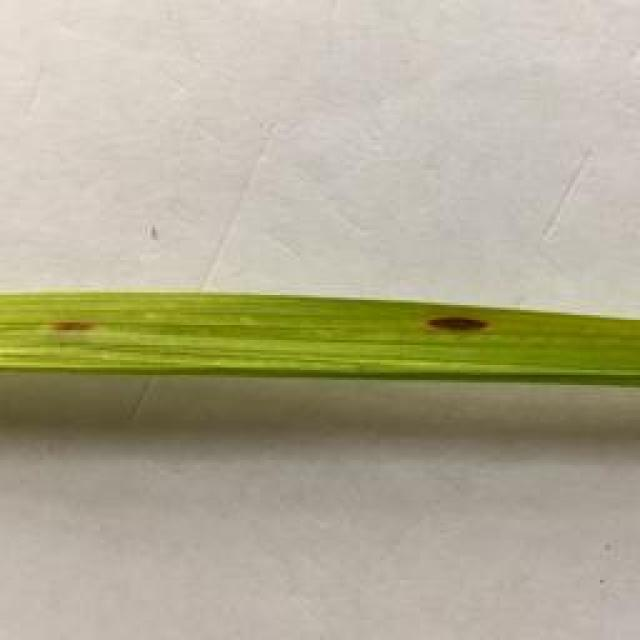Brown_Spot: (34, 306, 112, 344), (415, 317, 516, 337)
